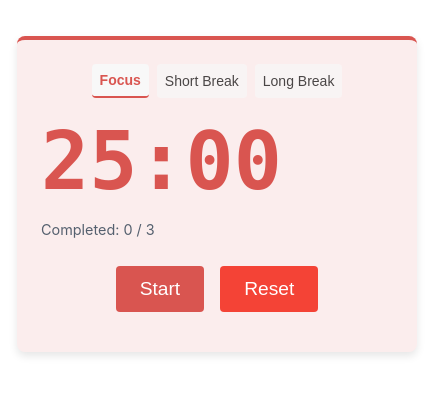
Test: PomodoroTimer.vue › handles skip break functionality correctly
# Complete one pomodoro to enter break
Step 1. Click the button with class "start" → (160, 288), box [116,266,204,312]
Wait 1500000 ms
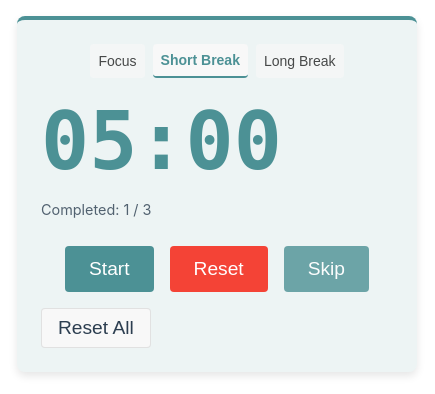
Expected: the button with class "skip" is shown
# Skip break
Step 2. Click the button with class "skip" → (326, 268), box [284,246,369,292]
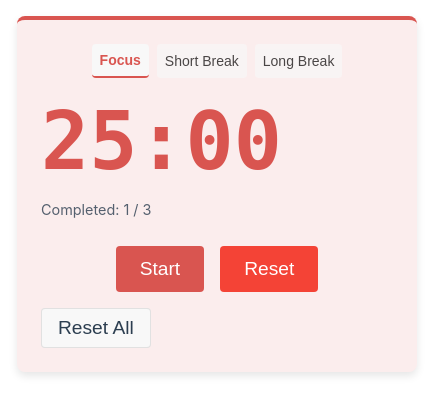
Expected: the text with class "timer" reads "25:00", [41,96,282,188]
